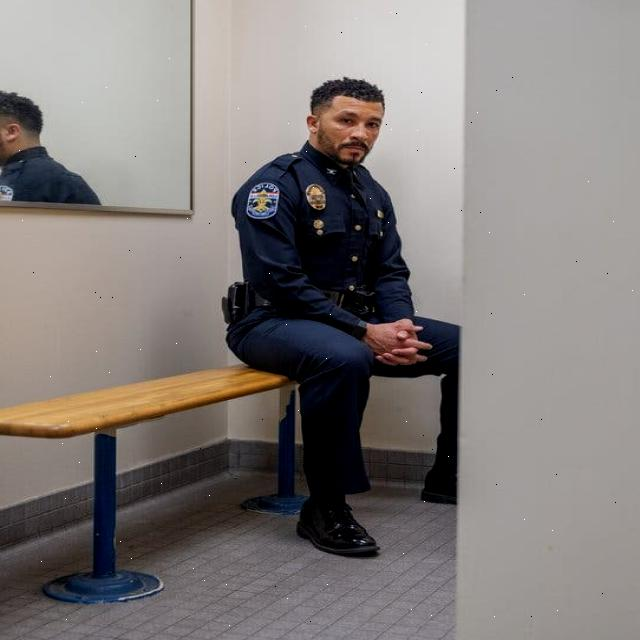police: (208, 42, 458, 601)
